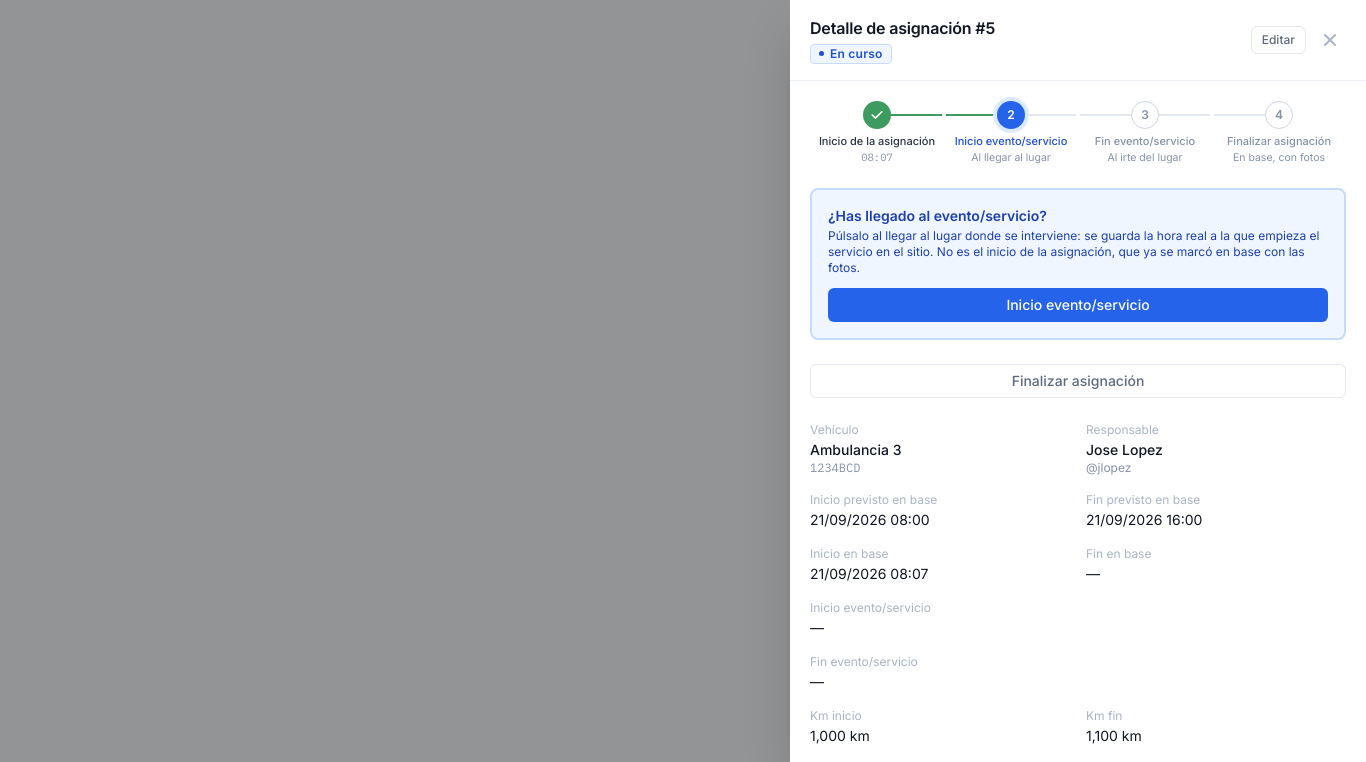
Test: AsignacionDetalle — editar › gestión puede editar una activa con las fotos de inicio ya subidas
The width and height of the screenshot is (1366, 762).
Click the button "Editar" at x=1278, y=40, box x1=1251 y1=26 x2=1306 y2=54
(page scrolled)
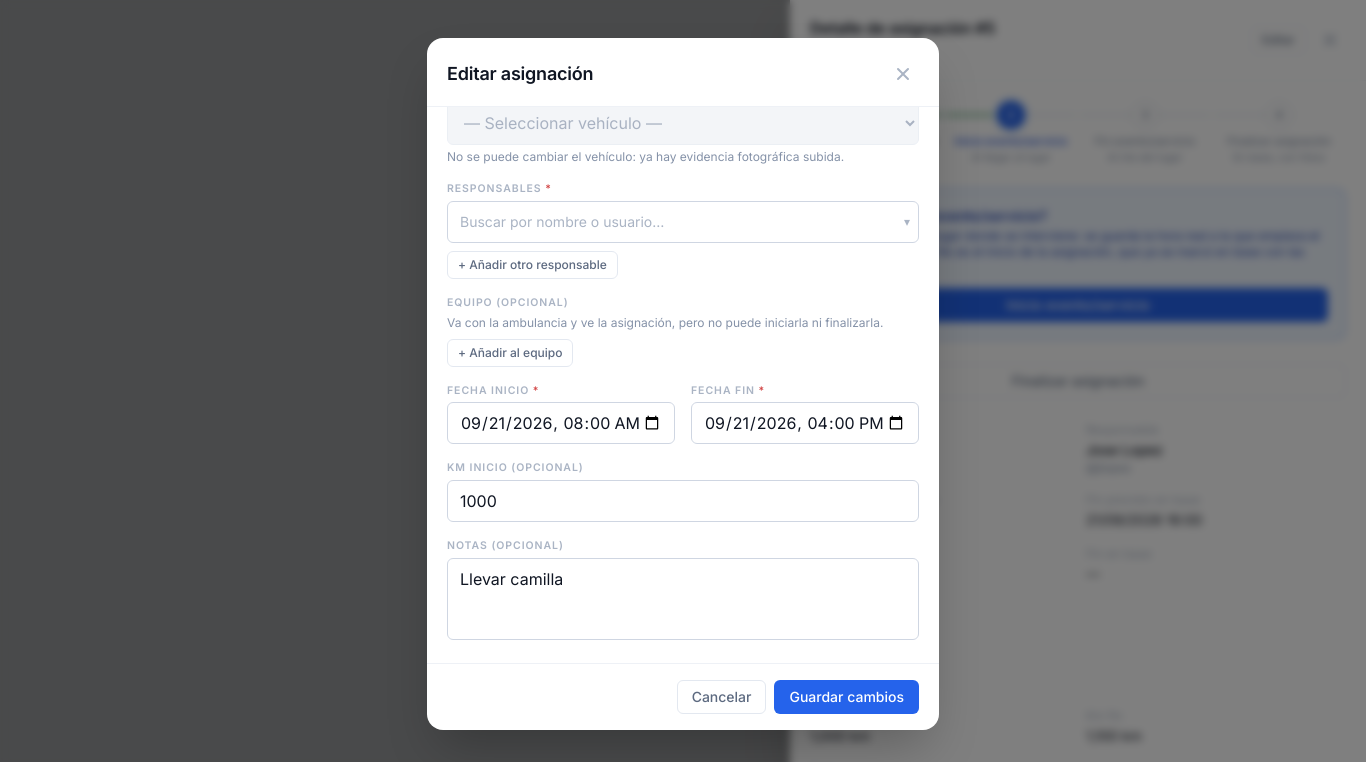
Now the heading "Editar asignación" is shown, box x1=447 y1=60 x2=593 y2=88
Now the text box showing "Llevar camilla" is shown, box x1=447 y1=558 x2=919 y2=640
